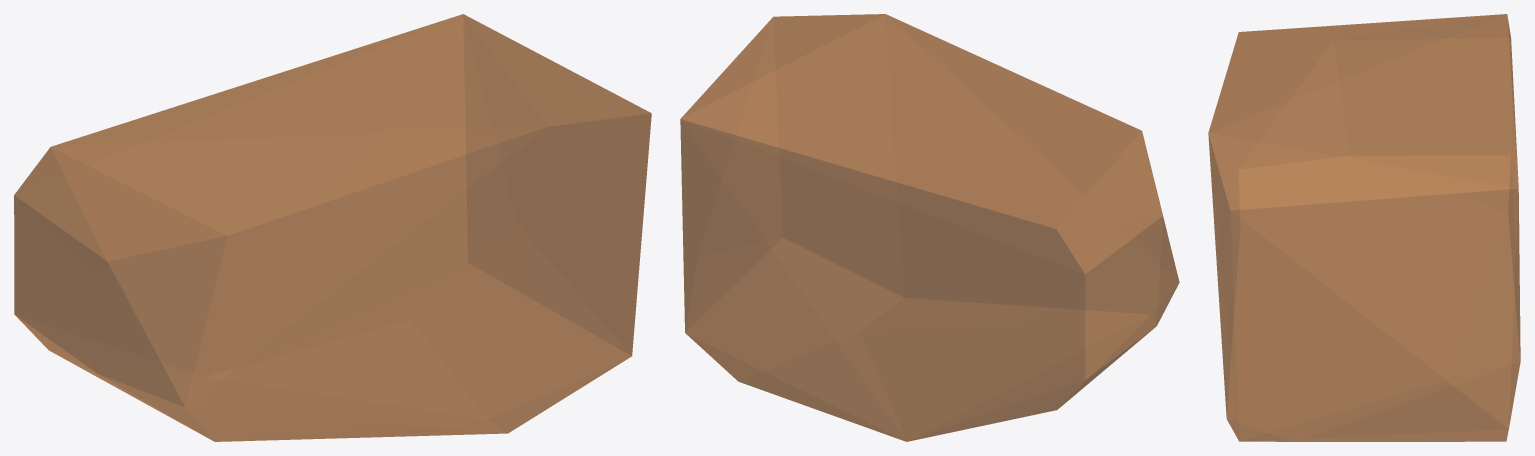
The picture shows the model from 3 angles, left to right: view 1: azimuth 30°, elevation 25°; view 2: azimuth 150°, elevation 25°; view 3: azimuth 270°, elevation 25°; orthographic projection. The views are drawn at different scales.
Visible parts, largest first — view 1: Shape_IndexedFaceSet.023_Shape_IndexedFaceSet.18246; view 2: Shape_IndexedFaceSet.023_Shape_IndexedFaceSet.18246; view 3: Shape_IndexedFaceSet.023_Shape_IndexedFaceSet.18246.
Boxes of the visible parts, left/top/right/bottom form: Shape_IndexedFaceSet.023_Shape_IndexedFaceSet.18246: left=14, top=14, right=651, bottom=441; Shape_IndexedFaceSet.023_Shape_IndexedFaceSet.18246: left=680, top=14, right=1179, bottom=441; Shape_IndexedFaceSet.023_Shape_IndexedFaceSet.18246: left=1208, top=14, right=1520, bottom=441.
Bounding box in the file's own units: 0.1749 × 0.1087 × 0.0973.
